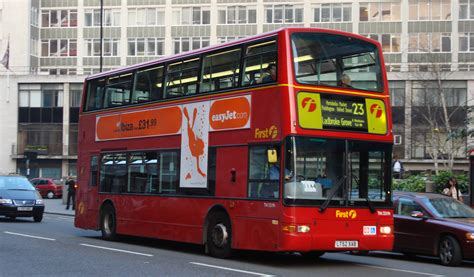bus: (80, 34, 394, 254)
